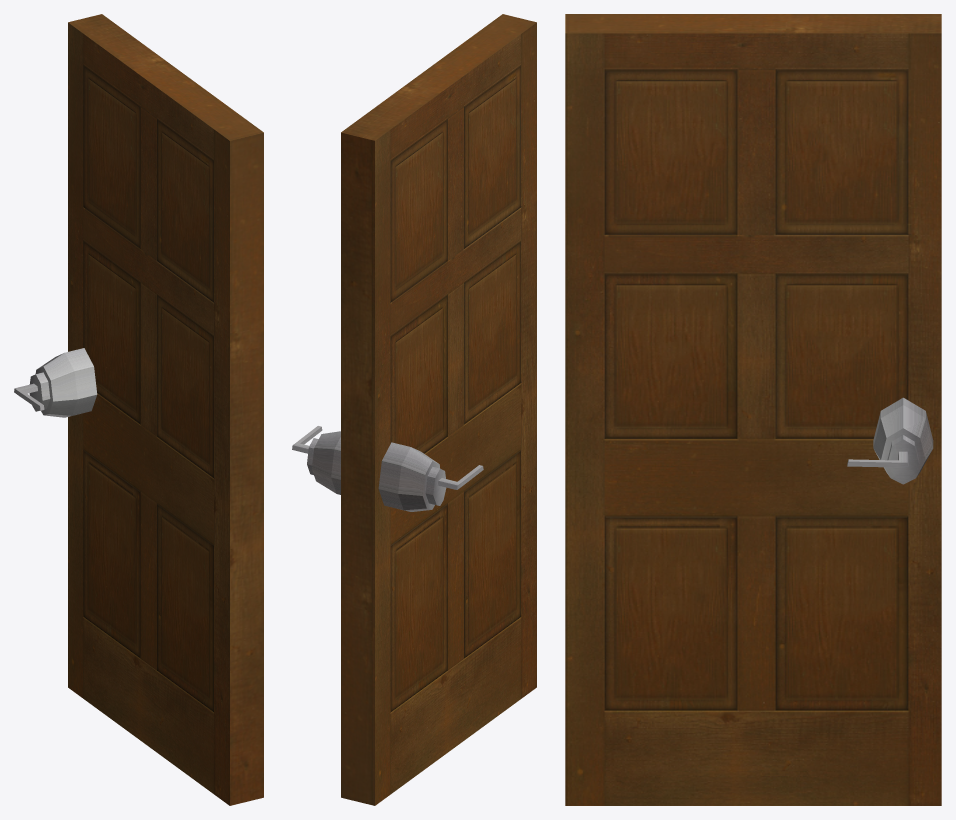
The model's file is ActualDoor.obj.
The picture shows the model from 3 angles, left to right: view 1: azimuth 30°, elevation 25°; view 2: azimuth 150°, elevation 25°; view 3: azimuth 270°, elevation 25°; orthographic projection. The views are drawn at different scales.
Visible parts, largest first — view 1: Cube.001_Cube.002; view 2: Cube.001_Cube.002; view 3: Cube.001_Cube.002.
Boxes of the visible parts, left/top/right/bottom form: Cube.001_Cube.002: left=14, top=14, right=263, bottom=805; Cube.001_Cube.002: left=292, top=14, right=536, bottom=805; Cube.001_Cube.002: left=565, top=14, right=941, bottom=805.
Size of the model in its own units: 0.483 by 1.86 by 0.8205.
